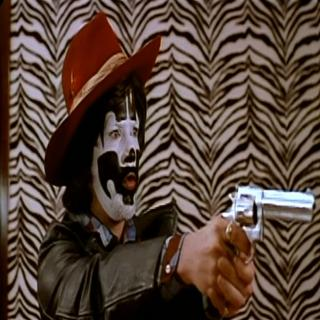gun: (196, 169, 312, 309)
